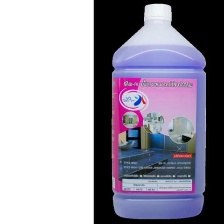cleaning_solution: (109, 2, 209, 221)
